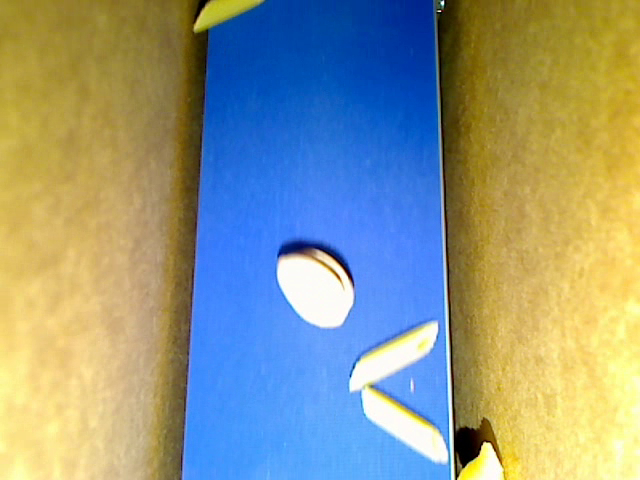penne: (359, 385, 449, 464), (347, 320, 439, 391), (191, 1, 267, 35)
